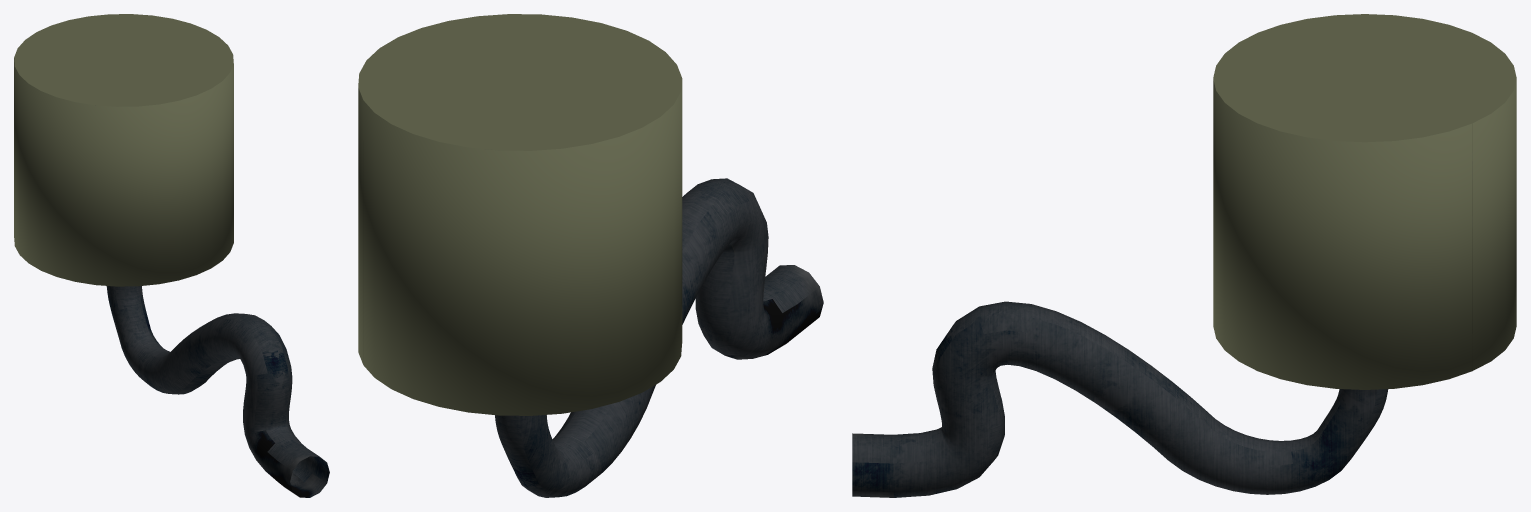
File: WALL LAMP 1.fbx
3 views of the same model, side by side, from view 1: azimuth 30°, elevation 25°; view 2: azimuth 150°, elevation 25°; view 3: azimuth 270°, elevation 25° (orthographic). The views are drawn at different scales.
Parts seen in each view (by area): view 1: WALL LAMP 1; view 2: WALL LAMP 1; view 3: WALL LAMP 1.
Boxes of the visible parts, x1,y1,x2,y2 form: WALL LAMP 1: (14, 14, 329, 497); WALL LAMP 1: (358, 14, 823, 497); WALL LAMP 1: (852, 14, 1516, 497).
Size of the model in its own units: 0.3157 by 0.6911 by 0.4786.
